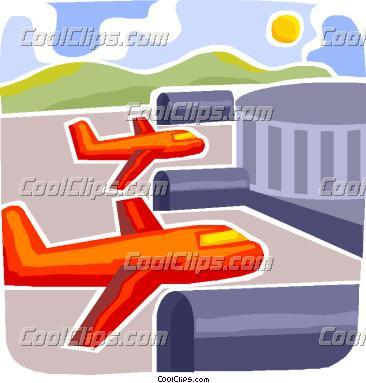aeroplane: (4, 199, 273, 356), (53, 112, 217, 192)
